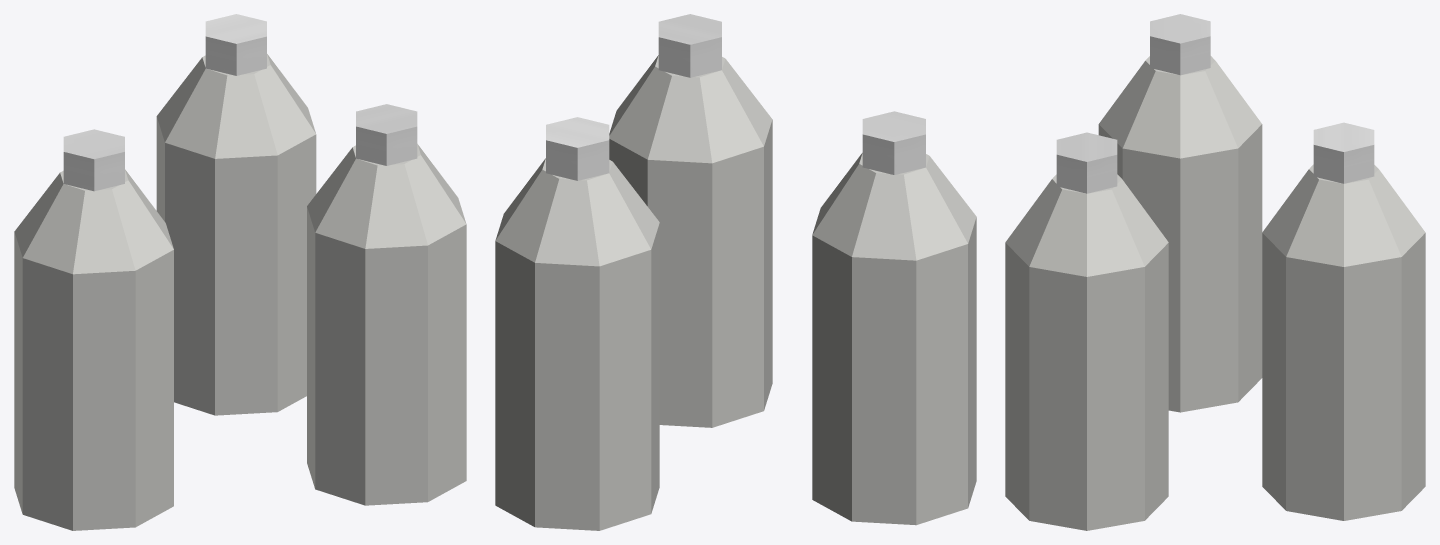
File: food_milk.obj
3 views of the same model, side by side, from view 1: azimuth 30°, elevation 25°; view 2: azimuth 150°, elevation 25°; view 3: azimuth 270°, elevation 25° (orthographic). The views are drawn at different scales.
Visible parts, largest first — view 1: food_milk; view 2: food_milk; view 3: food_milk.
Part boxes in pixels (x1=…): food_milk: x1=14, y1=14, x2=466, y2=530; food_milk: x1=495, y1=14, x2=976, y2=530; food_milk: x1=1005, y1=14, x2=1425, y2=530.
Size of the model in its own units: 0.38 by 0.33 by 0.36.
